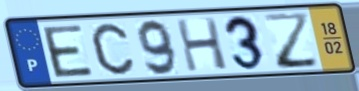3: (223, 12, 272, 74)
9: (135, 17, 180, 77)
C: (89, 21, 137, 77)
E: (39, 23, 96, 80)
H: (173, 16, 231, 74)
Z: (261, 10, 322, 71)
